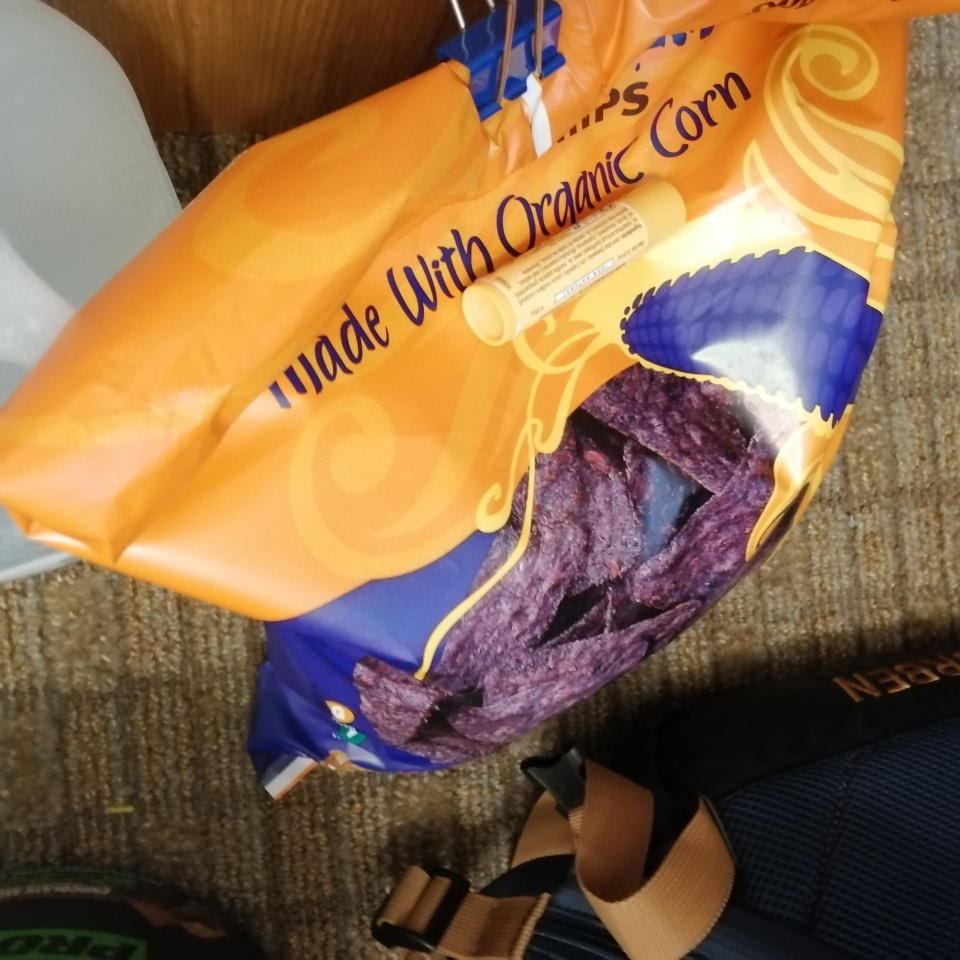chapstick: (463, 178, 687, 346)
